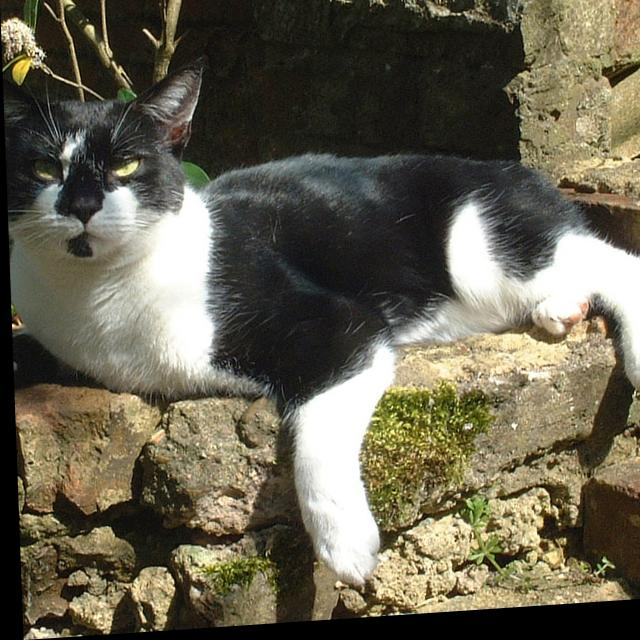animals: (2, 48, 209, 224)
